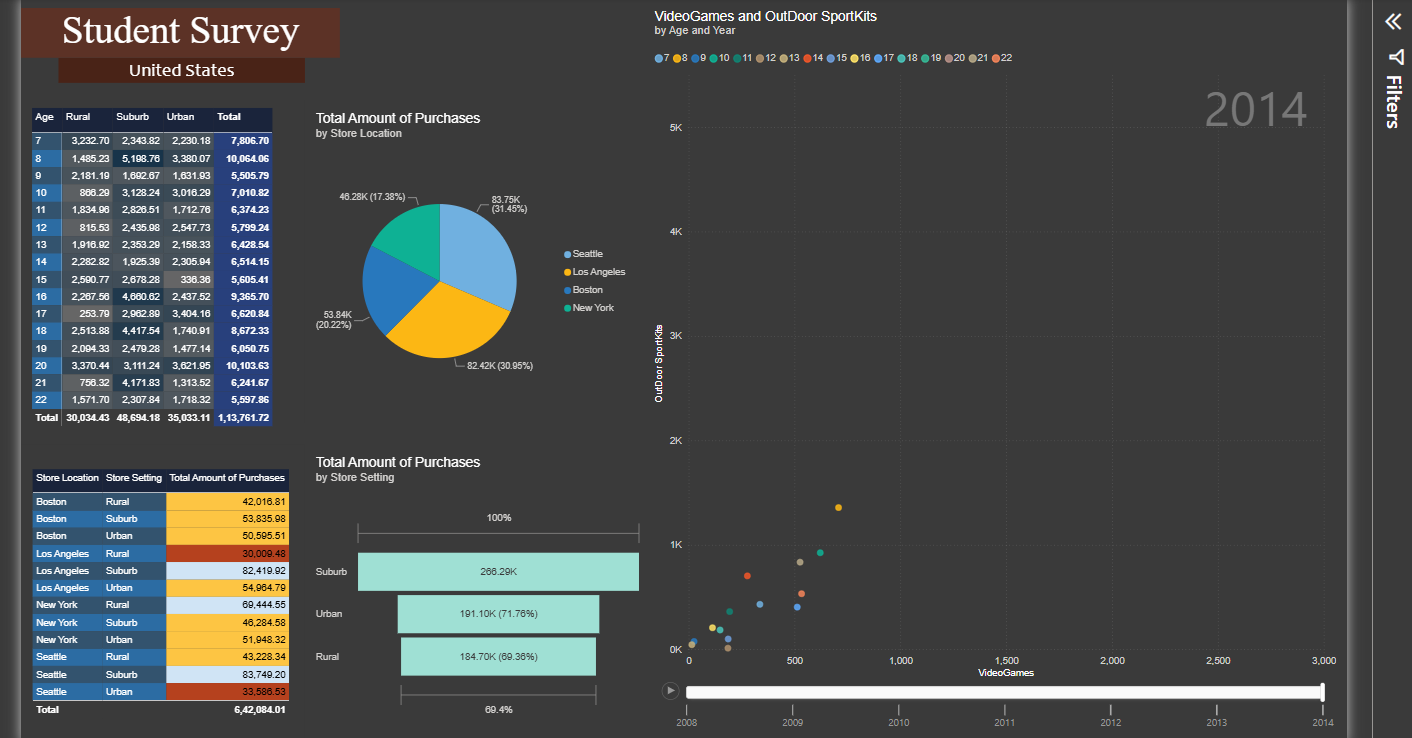

What the dashboard file says about the page in this screenshot:
{"tool":"powerbi","page":{"name":"Page 1","canvas":[1920,1080],"ordinal":0},"visuals":[{"type":"tableEx","fields":{"Values":["Student Survey.Store Location","Student Survey.Store Setting","Sum(Student Survey.Total Amount of Purchases)"]},"box":[0,667.8,410.8,412.6],"z":0},{"type":"pivotTable","fields":{"Columns":["Student Survey.Store Setting"],"Rows":["Student Survey.Age"],"Values":["Sum(Student Survey.OutDoor SportKits)"]},"box":[0,144.8,410.8,501.3],"z":1},{"type":"funnel","fields":{"Category":["Student Survey.Store Setting"],"Y":["Sum(Student Survey.Total Amount of Purchases)"]},"box":[410.8,646,504.9,434.3],"z":2},{"type":"pieChart","fields":{"Category":["Student Survey.Store Location"],"Y":["Sum(Student Survey.Total Amount of Purchases)"]},"box":[410.8,148.4,490.4,466.9],"z":3},{"type":"textbox","box":[0,14.5,461.5,72.4],"z":4},{"type":"textbox","box":[54.3,86.9,356.5,36.2],"z":5},{"type":"scatterChart","fields":{"Play":["Student Survey.Survey Date .Variation.Date Hierarchy.Year"],"Series":["Student Survey.Age"],"X":["Sum(Student Survey.VideoGames)"],"Y":["Sum(Student Survey.OutDoor SportKits)"]},"box":[901.2,0,1018.8,1080.4],"z":6}]}

Visuals, with their boxes on the page's 1920x1080 design canvas (x1, y1, x2, y2). These are canvas units, not pixel positions in the 1412x738 screenshot, which may show the page scaled, cropped or inside an application window:
tableEx - Student Survey.Store Location x Student Survey.Store Setting: x1=0 y1=668 x2=411 y2=1080
pivotTable - Student Survey.Store Setting x Student Survey.Age: x1=0 y1=145 x2=411 y2=646
funnel - Student Survey.Store Setting x Sum(Student Survey.Total Amount of Purchases): x1=411 y1=646 x2=916 y2=1080
pieChart - Student Survey.Store Location x Sum(Student Survey.Total Amount of Purchases): x1=411 y1=148 x2=901 y2=615
textbox: x1=0 y1=14 x2=462 y2=87
textbox: x1=54 y1=87 x2=411 y2=123
scatterChart - Student Survey.Survey Date .Variation.Date Hierarchy.Year x Student Survey.Age: x1=901 y1=0 x2=1920 y2=1080
